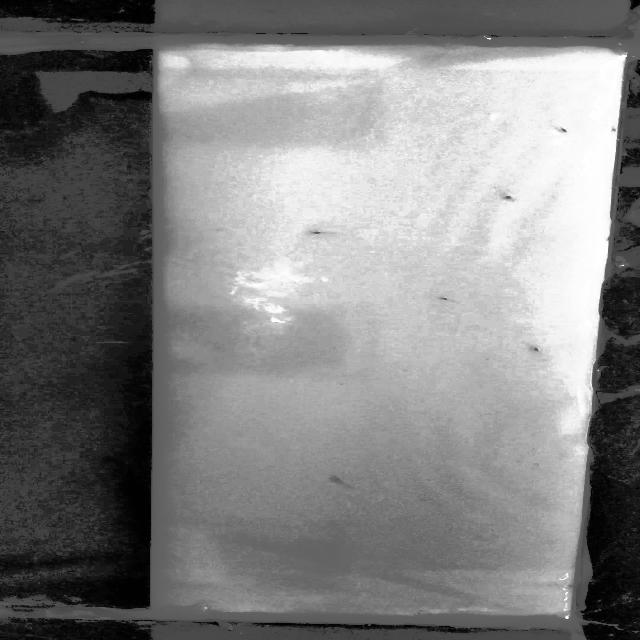shrimp: (542, 120, 574, 138), (486, 189, 519, 205), (522, 341, 543, 356), (322, 475, 348, 486), (307, 230, 340, 238), (434, 293, 451, 304)
